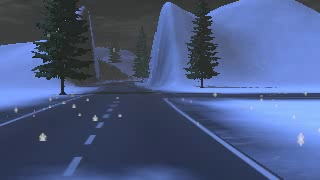Lane: (1, 81, 319, 179)
